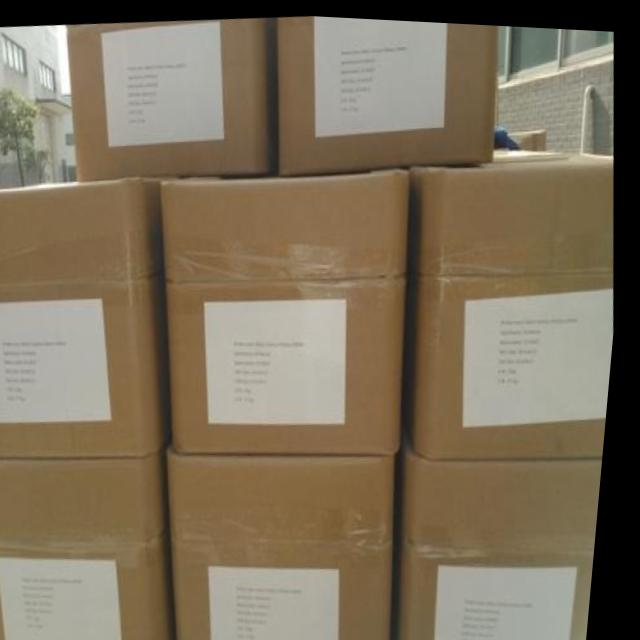box: (164, 163, 409, 452), (411, 147, 619, 454), (0, 176, 178, 456), (175, 444, 401, 640), (409, 443, 610, 640), (0, 449, 185, 640), (277, 12, 497, 171), (68, 14, 274, 178)
